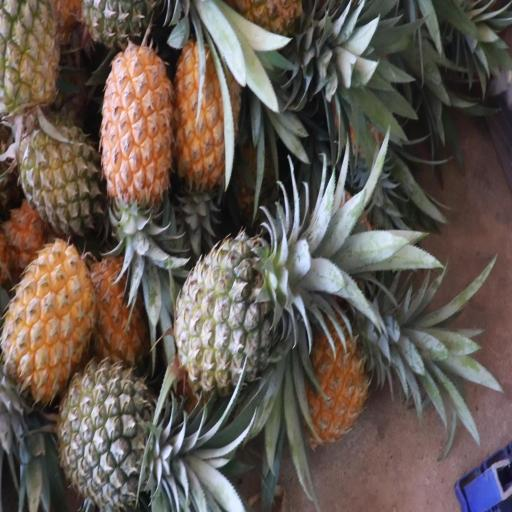Pineapple - v8 v1: (0, 238, 105, 425), (100, 30, 172, 243), (176, 42, 232, 204)
